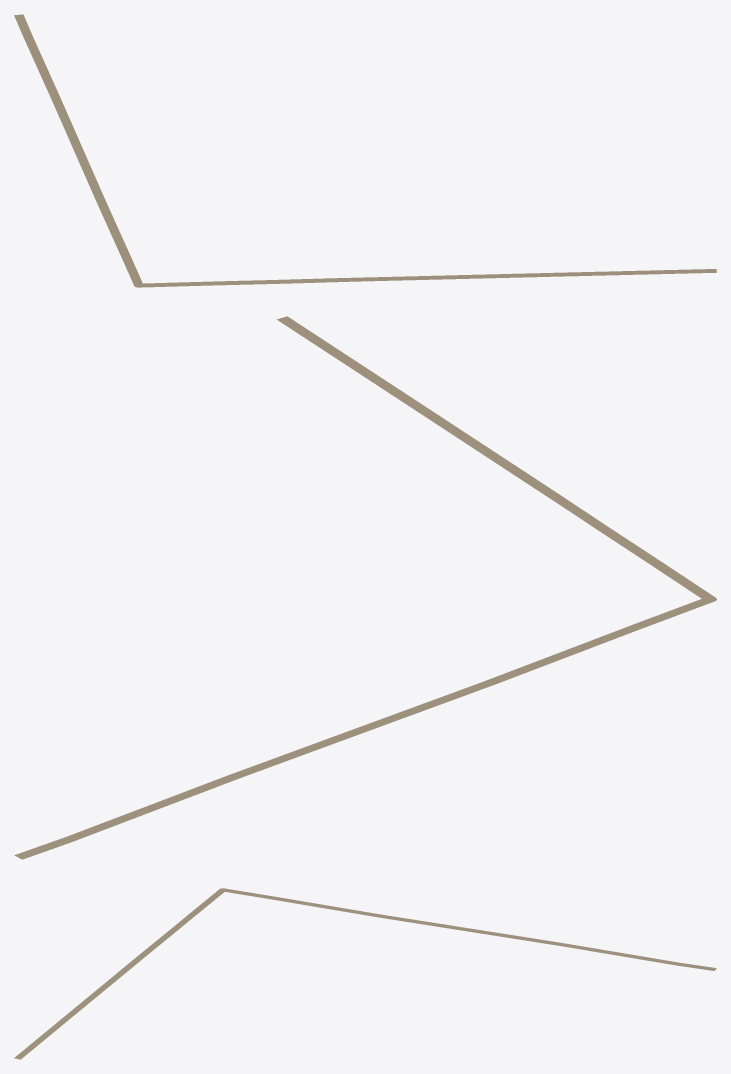
The model's file is farm_9_8_track.glb.
3 views of the same model, one above another, from view 1: azimuth 30°, elevation 25°; view 2: azimuth 150°, elevation 25°; view 3: azimuth 270°, elevation 25° (orthographic). The views are drawn at different scales.
Visible parts, largest first — view 1: geometry_0; view 2: geometry_0; view 3: geometry_0.
Part boxes in pixels (x1,y1,x2,y2): geometry_0: (14, 14, 716, 287); geometry_0: (14, 316, 716, 859); geometry_0: (14, 888, 716, 1059).
Size of the model in its own units: 179 by 3.49 by 307.
